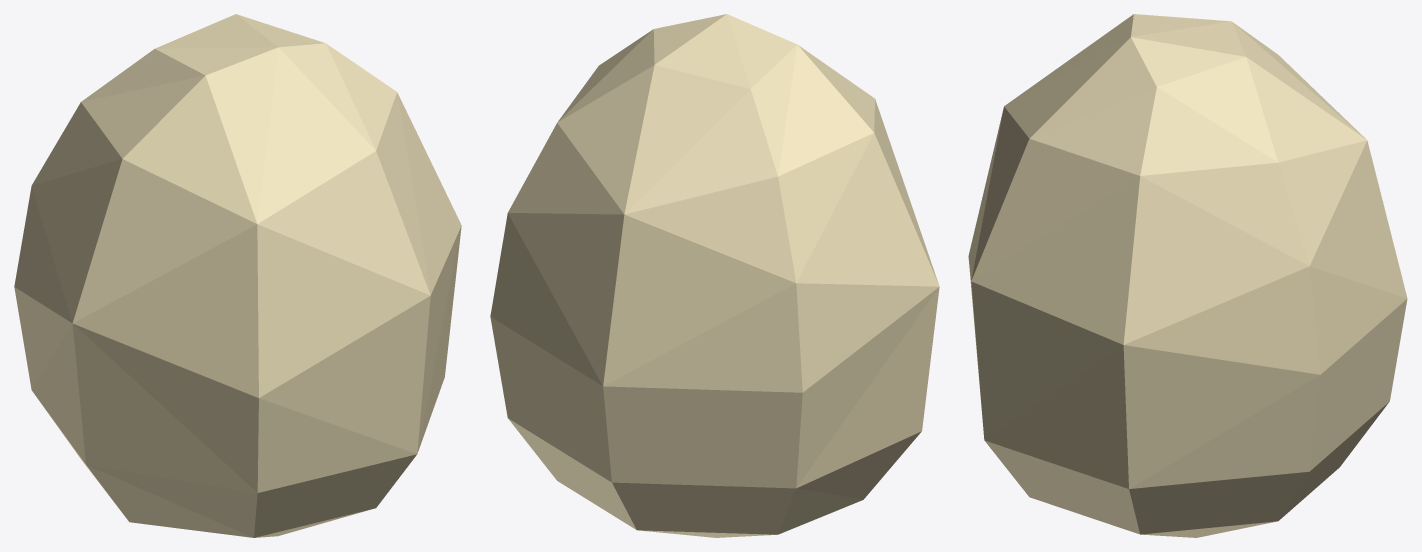
File: egg.obj
3 renders of one model, left to right at view 1: azimuth 30°, elevation 25°; view 2: azimuth 150°, elevation 25°; view 3: azimuth 270°, elevation 25°, orthographic.
Visible parts, largest first — view 1: Sphere.001_Mesh; view 2: Sphere.001_Mesh; view 3: Sphere.001_Mesh.
Part boxes in pixels (box(x1,y1,x2,y2)): Sphere.001_Mesh: box(14, 14, 461, 537); Sphere.001_Mesh: box(490, 14, 939, 537); Sphere.001_Mesh: box(968, 14, 1407, 537).
Size of the model in its own units: 0.0646 by 0.078 by 0.063.
